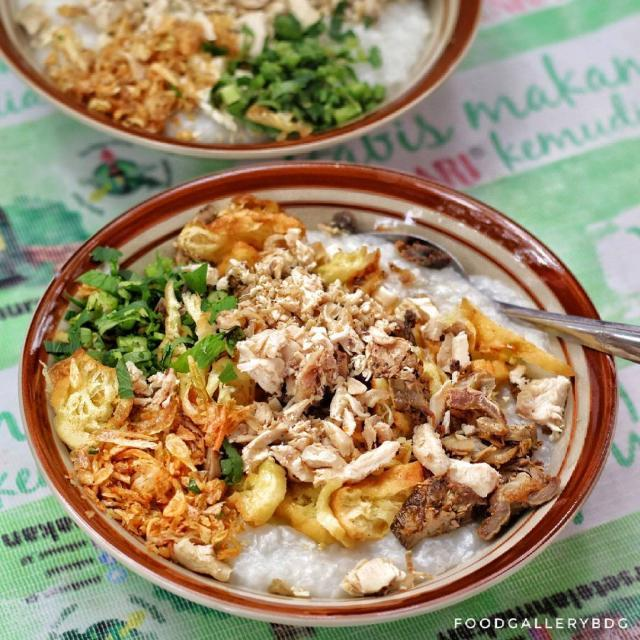bubur ayam: (37, 199, 574, 599), (11, 0, 434, 145)
mangkuk: (7, 162, 630, 628), (1, 1, 483, 161)
